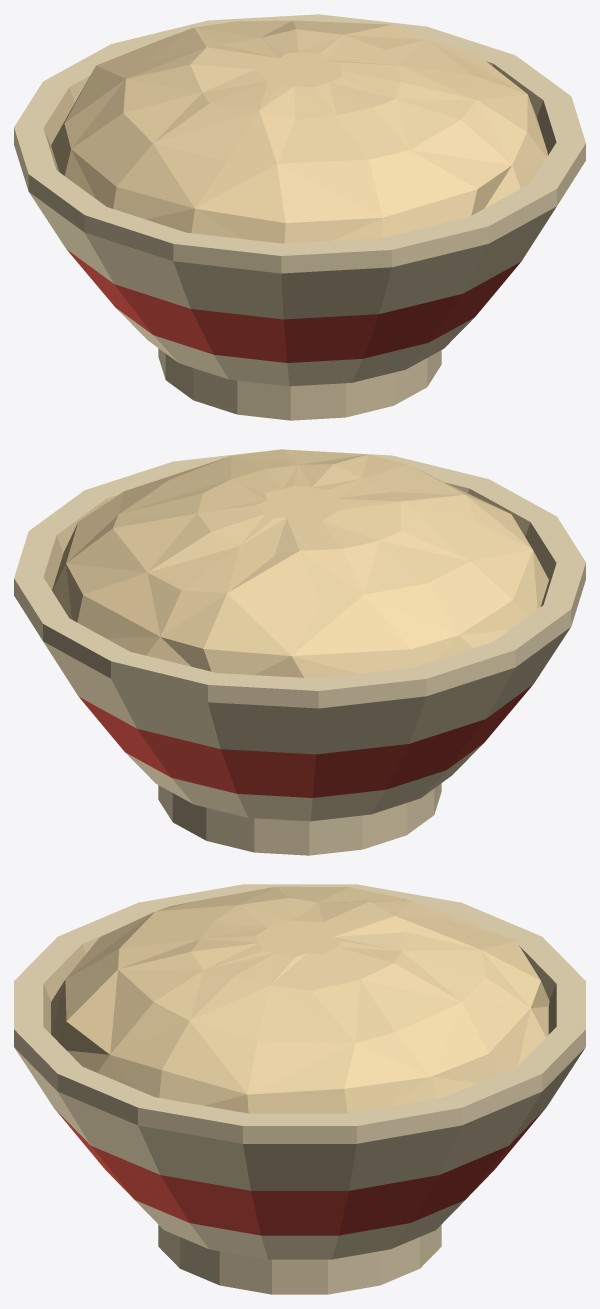
The model's file is FMS_Workshop_PRD_11.fbx.
The picture shows the model from 3 angles, top to bottom: view 1: azimuth 30°, elevation 25°; view 2: azimuth 150°, elevation 25°; view 3: azimuth 270°, elevation 25°; orthographic projection.
Parts seen in each view (by area): view 1: FMS_Workshop_PRD_11_Body; view 2: FMS_Workshop_PRD_11_Body; view 3: FMS_Workshop_PRD_11_Body.
Boxes of the visible parts, bbox=[...] form: FMS_Workshop_PRD_11_Body: bbox=[14, 14, 585, 420]; FMS_Workshop_PRD_11_Body: bbox=[14, 449, 585, 855]; FMS_Workshop_PRD_11_Body: bbox=[14, 884, 585, 1294].
Bounding box in the file's own units: 0.35 × 0.2 × 0.35.
1 material, 1 textured.
